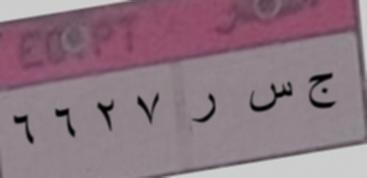2: (94, 94, 118, 136)
6: (47, 103, 78, 154), (12, 109, 39, 152)
7: (132, 90, 166, 127)
jeem: (301, 68, 341, 118)
raa: (186, 90, 220, 130)
seen: (237, 76, 297, 118)
